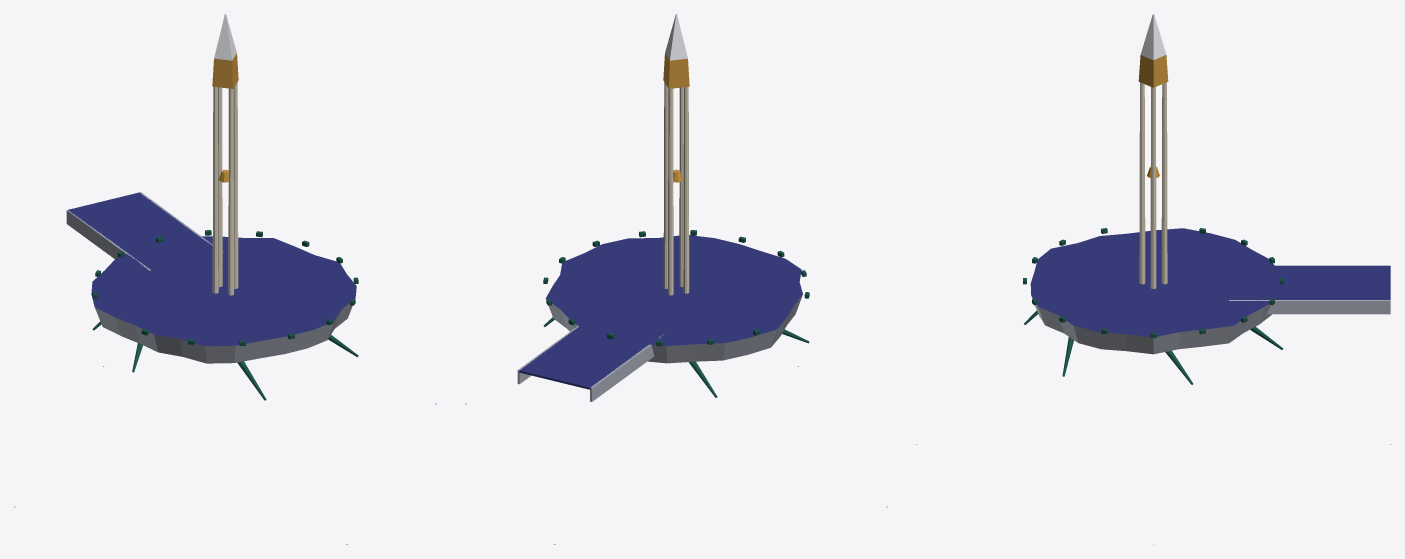
Rendered from chunk_es_side_hermitage.fbx.
The picture shows the model from 3 angles, left to right: view 1: azimuth 30°, elevation 25°; view 2: azimuth 150°, elevation 25°; view 3: azimuth 270°, elevation 25°; orthographic projection. The views are drawn at different scales.
Parts seen in each view (by area): view 1: ES_SIDE_HERMITAGE; view 2: ES_SIDE_HERMITAGE; view 3: ES_SIDE_HERMITAGE.
Part boxes in pixels (bbox=[...]): ES_SIDE_HERMITAGE: bbox=[14, 14, 436, 544]; ES_SIDE_HERMITAGE: bbox=[465, 14, 887, 544]; ES_SIDE_HERMITAGE: bbox=[916, 14, 1390, 544].
Bounding box in the file's own units: 256 × 256 × 256.
